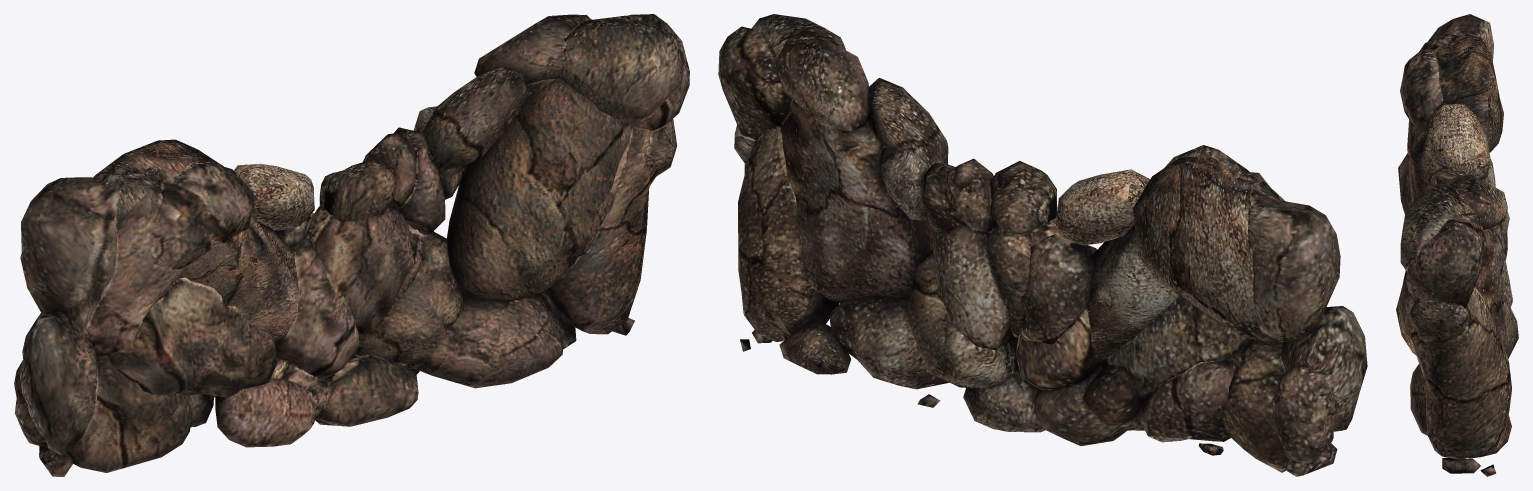
Rendered from Ruine Wall A.FBX.
3 views of the same model, side by side, from view 1: azimuth 30°, elevation 25°; view 2: azimuth 150°, elevation 25°; view 3: azimuth 270°, elevation 25° (orthographic). The views are drawn at different scales.
Visible parts, largest first — view 1: Wall2_FInal2; view 2: Wall2_FInal2; view 3: Wall2_FInal2.
Boxes of the visible parts, left/top/right/bottom form: Wall2_FInal2: left=14, top=14, right=689, bottom=476; Wall2_FInal2: left=718, top=14, right=1367, bottom=476; Wall2_FInal2: left=1396, top=14, right=1518, bottom=476.
Bounding box in the file's own units: 165 × 31.87 × 83.56.
Materials: 1 (1 with a texture image).
